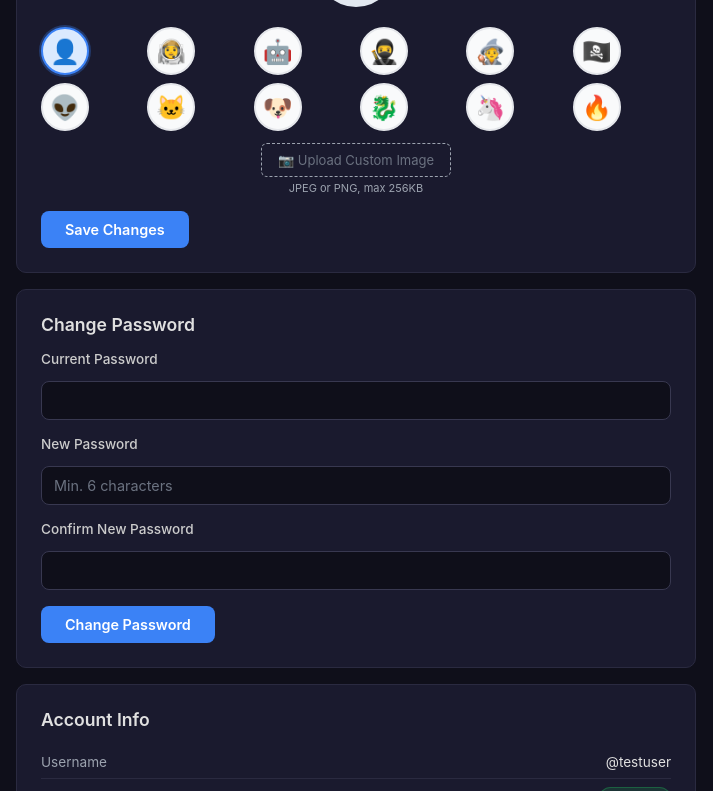
Test case: ProfileView › shows error for password mismatch
(page scrolled)
In the password field with test id "current-password": point(356, 400) [41,381,671,420], type "oldpass"
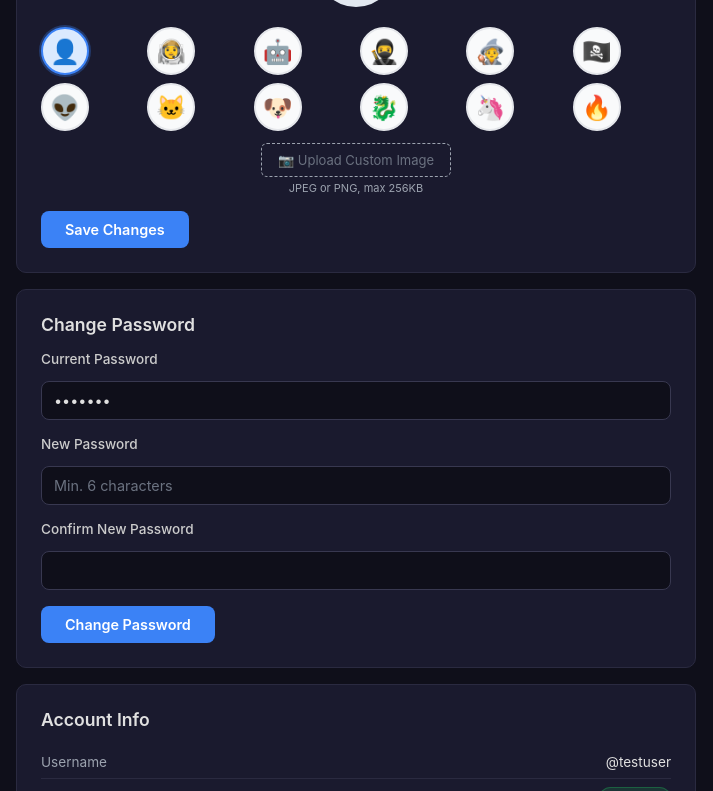
In the password field with test id "new-password": point(356, 486) [41,466,671,505], type "newpass123"
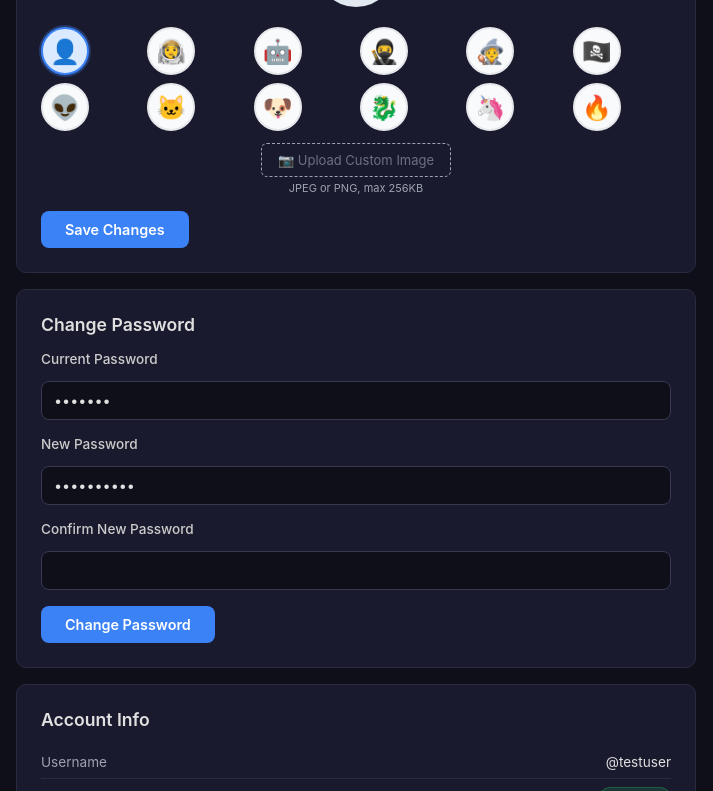
In the password field with test id "confirm-new-password": point(356, 570) [41,551,671,590], type "different"
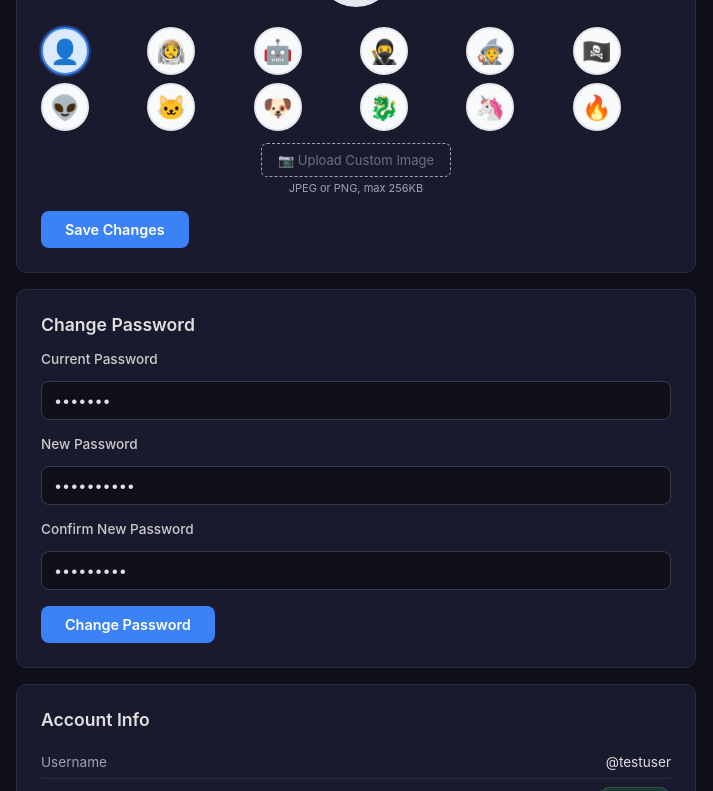
Click the button with test id "password-save": point(128, 624) [41,606,215,643]
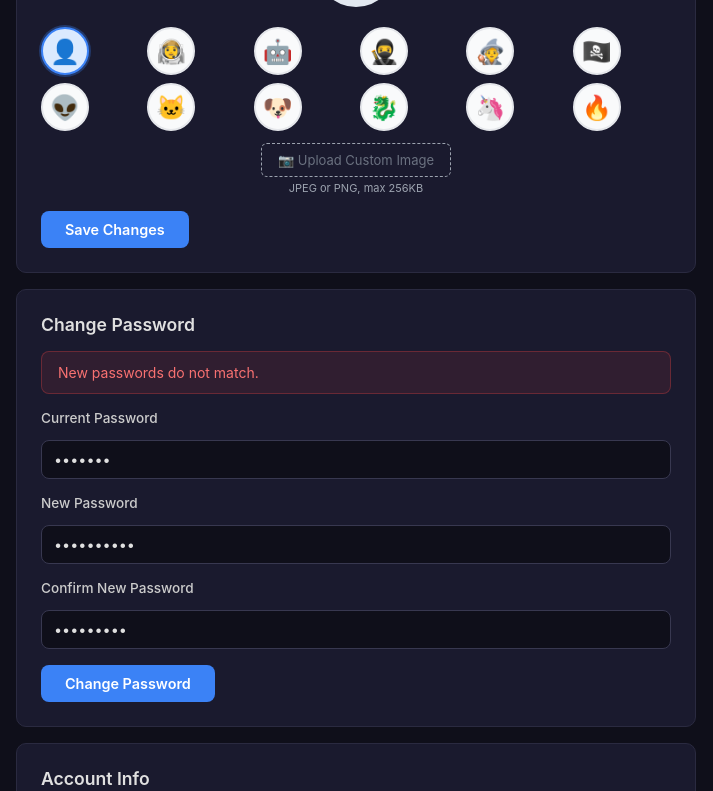
Check: the message with test id "password-error" shows "do not match", box [58,364,259,381]
